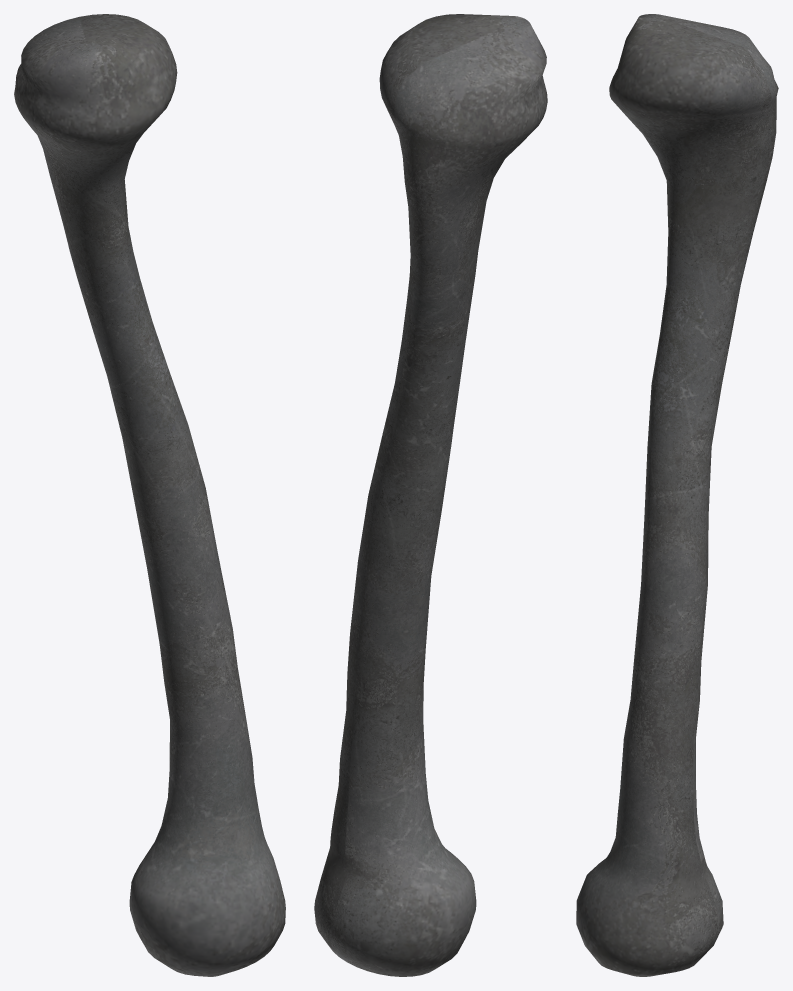
Rendered from osso.glb.
3 renders of one model, left to right at view 1: azimuth 30°, elevation 25°; view 2: azimuth 150°, elevation 25°; view 3: azimuth 270°, elevation 25°, orthographic. The views are drawn at different scales.
Visible parts, largest first — view 1: bone; view 2: bone; view 3: bone.
Boxes of the visible parts, x1,y1,x2,y2 form: bone: (14,14,285,976); bone: (314,14,547,976); bone: (576,14,778,976).
Bounding box in the file's own units: 7.76 × 31.07 × 6.3.
1 material, 1 textured.
